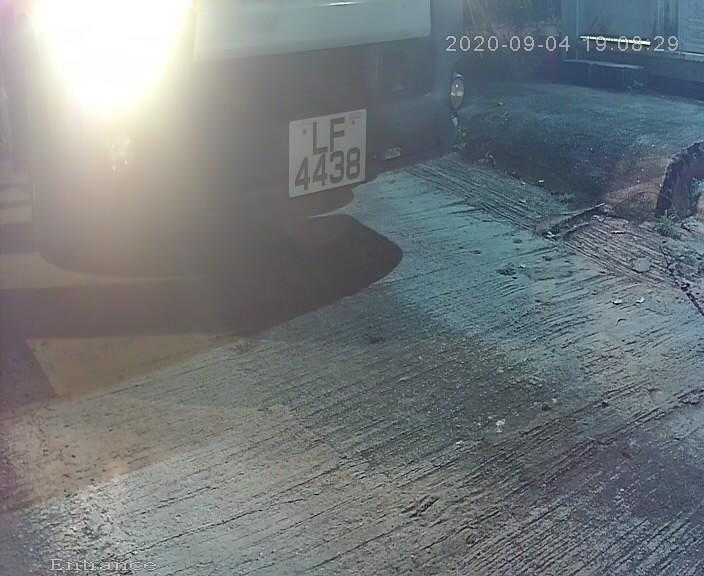License Plate: (274, 96, 378, 209)
